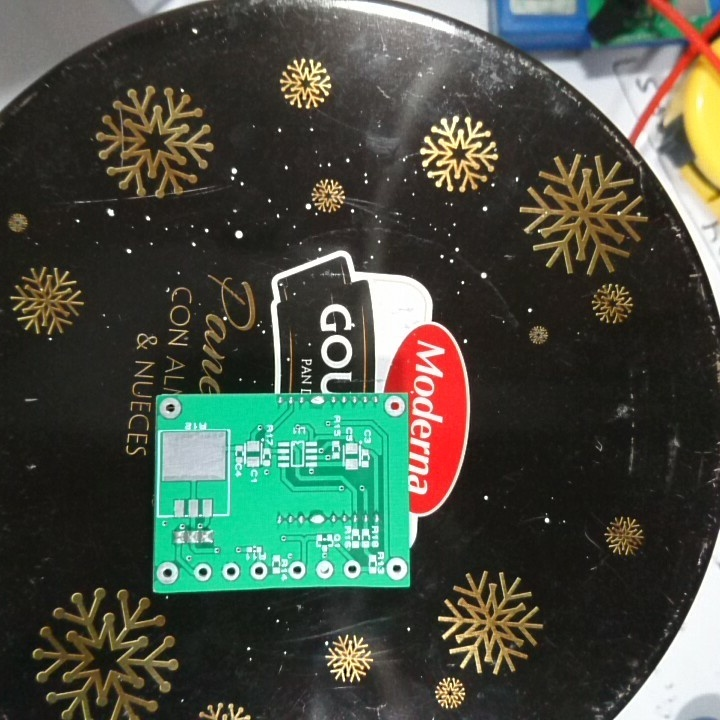F: (154, 561, 182, 586), (157, 396, 184, 419), (381, 395, 407, 418), (384, 555, 407, 581), (313, 559, 338, 581), (287, 559, 310, 581), (248, 560, 270, 583), (192, 561, 215, 583), (220, 560, 241, 582), (341, 558, 361, 581)
P: (308, 511, 327, 529), (307, 393, 329, 407)
